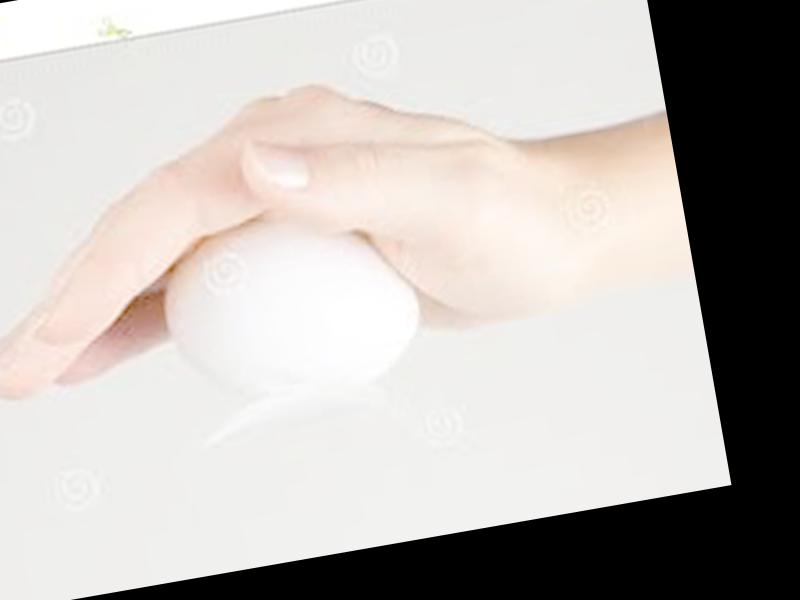Eggs: (149, 197, 431, 413)
